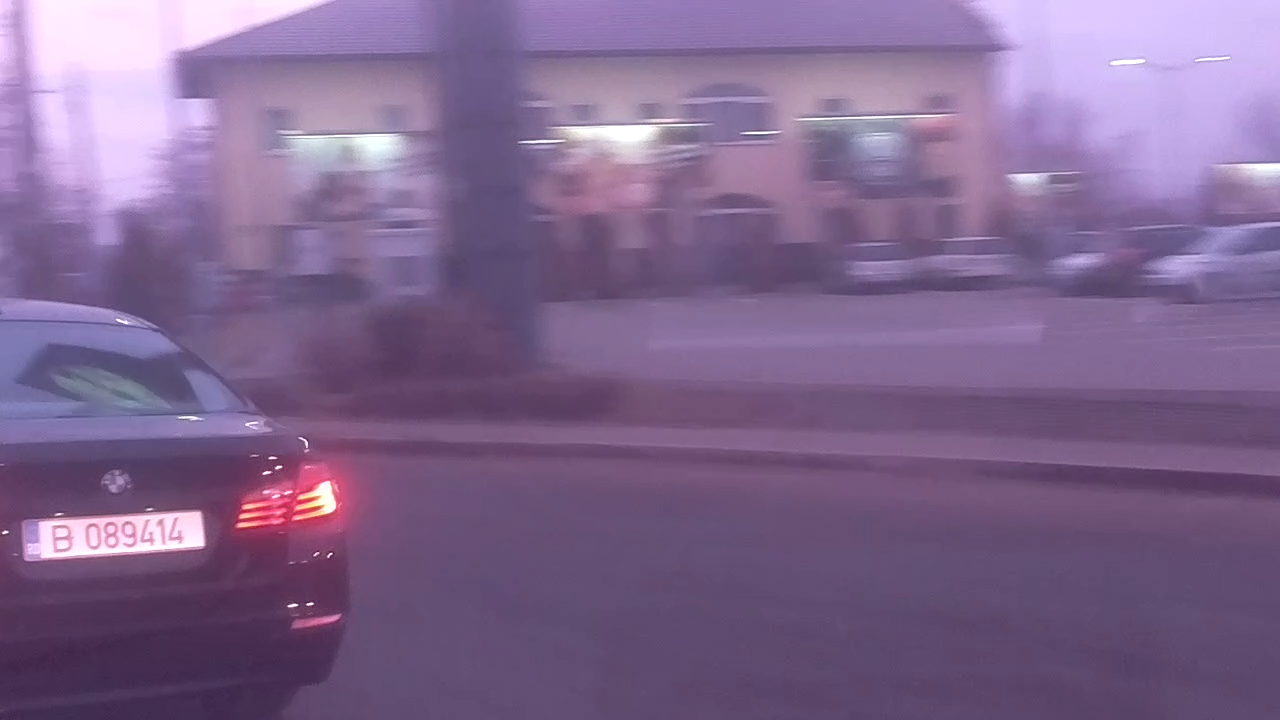license-plate: (14, 504, 213, 566)
